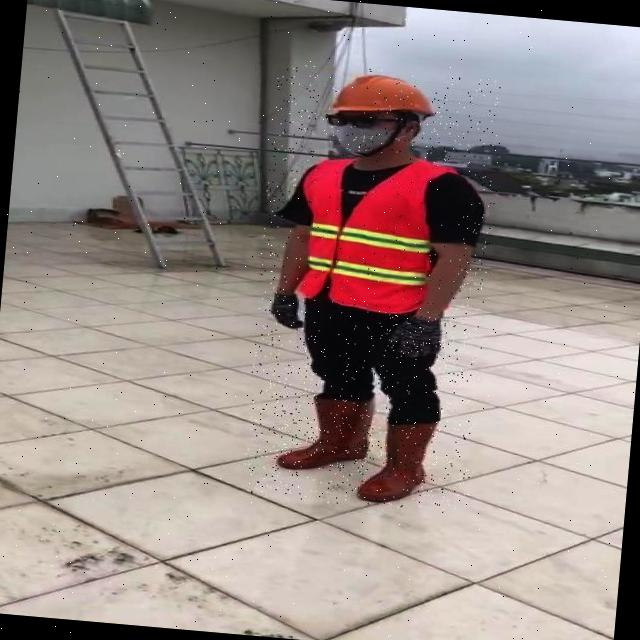boots: (270, 392, 374, 473), (356, 414, 441, 508)
helmet: (318, 66, 440, 122)
vest: (284, 148, 468, 318)
